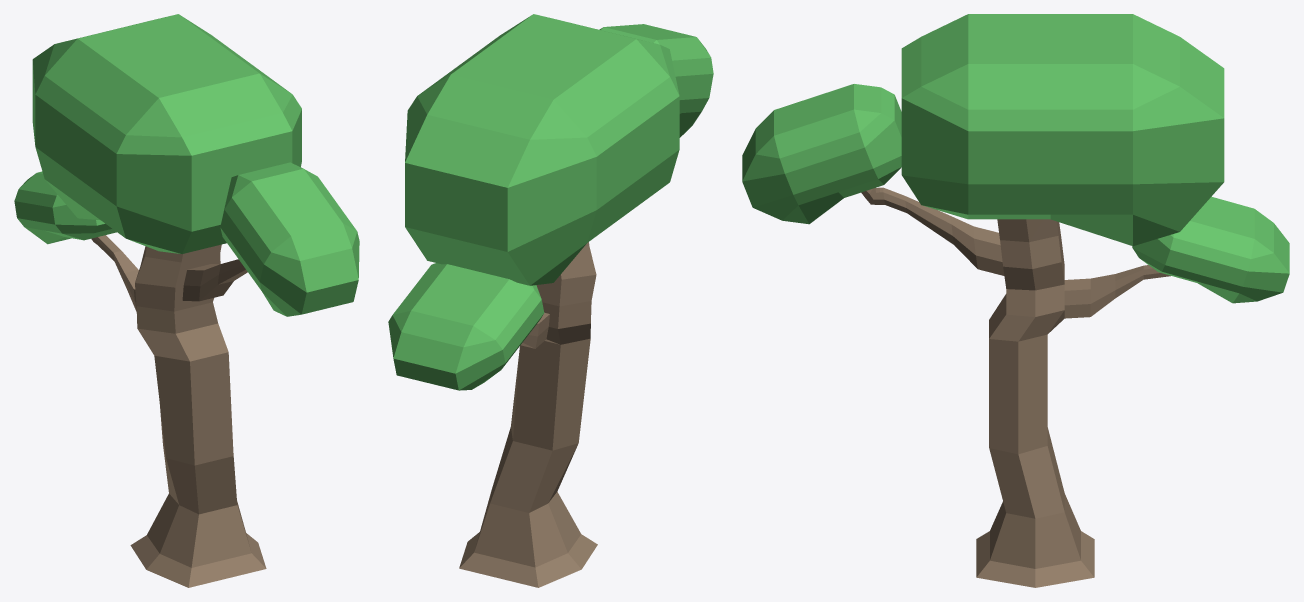
The model's file is main tree.fbx.
The picture shows the model from 3 angles, left to right: view 1: azimuth 30°, elevation 25°; view 2: azimuth 150°, elevation 25°; view 3: azimuth 270°, elevation 25°; orthographic projection.
Parts seen in each view (by area): view 1: pCube5; view 2: pCube5; view 3: pCube5.
Part boxes in pixels (x1,y1,x2,y2): pCube5: (14,14,359,587); pCube5: (388,14,713,587); pCube5: (742,14,1289,587).
Bounding box in the file's own units: 2.19 × 5.66 × 5.53.
